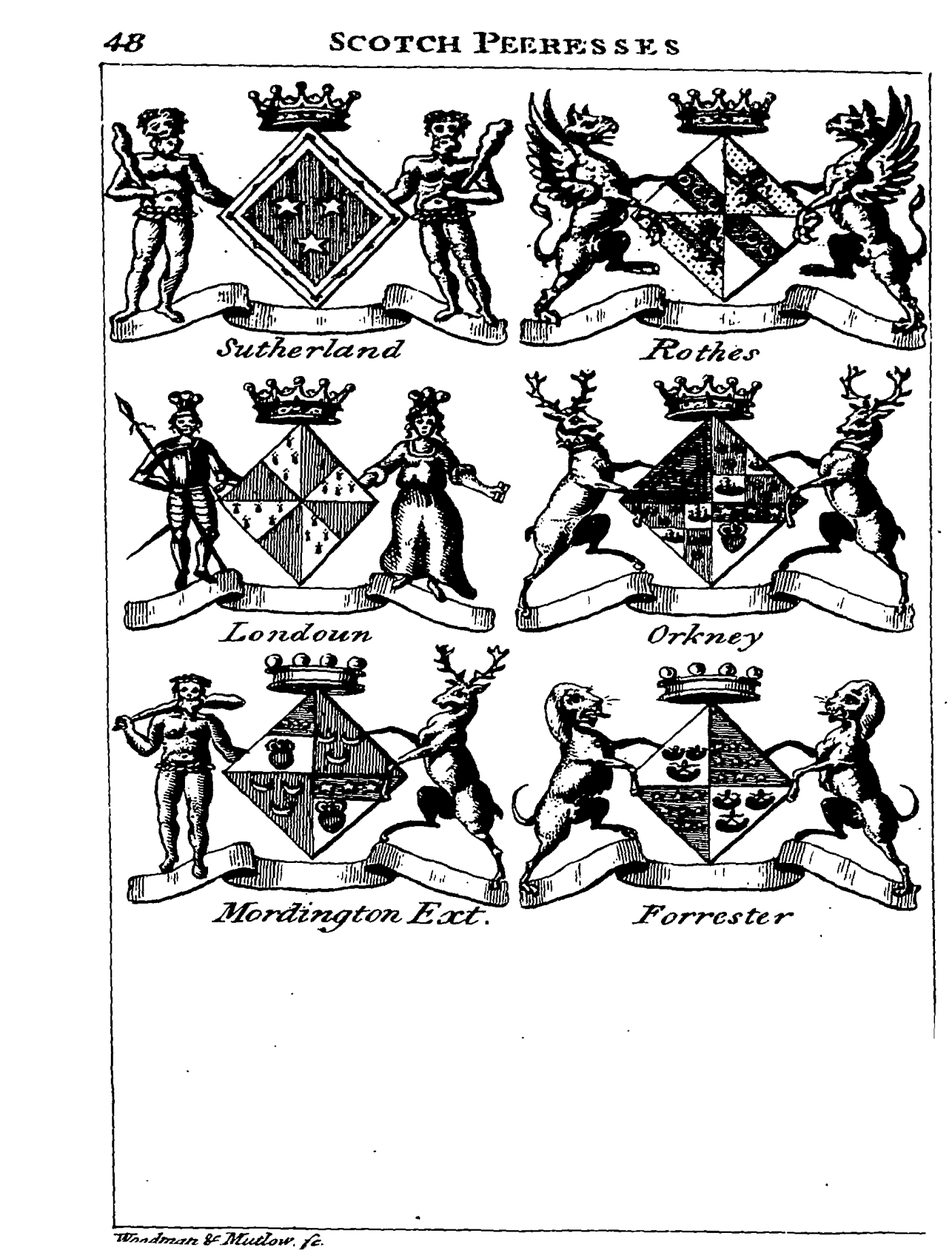coat_of_arms: (515, 651, 928, 940), (514, 364, 922, 651), (124, 644, 514, 936), (516, 87, 924, 364), (119, 81, 503, 360), (123, 372, 495, 645)
